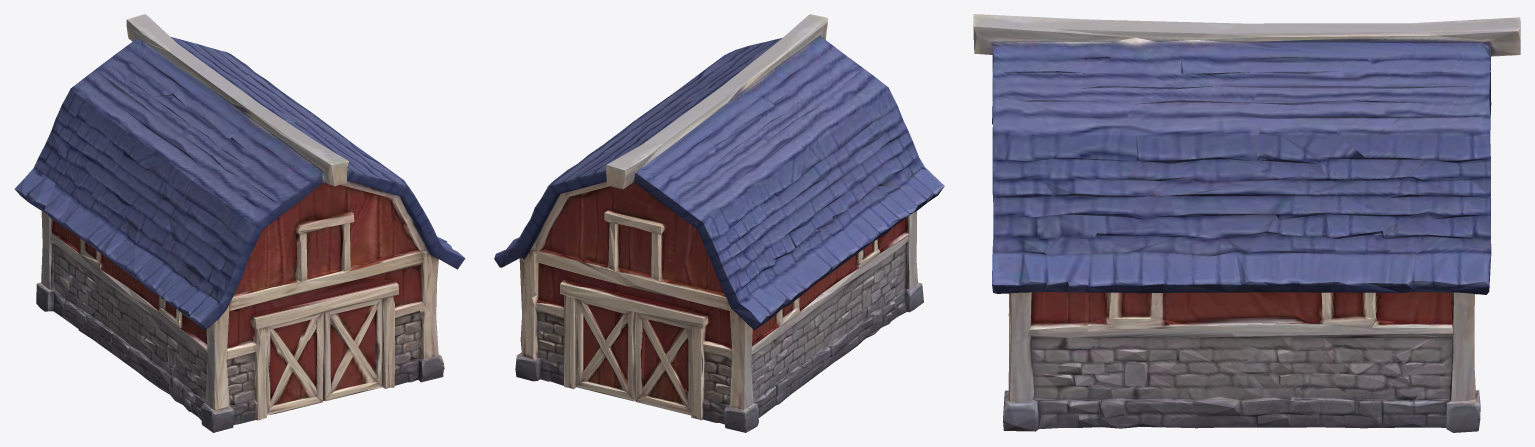
The model's file is oc_barn_stone.glb.
3 views of the same model, side by side, from view 1: azimuth 30°, elevation 25°; view 2: azimuth 150°, elevation 25°; view 3: azimuth 270°, elevation 25° (orthographic). The views are drawn at different scales.
Visible parts, largest first — view 1: W_barn_stone_long; view 2: W_barn_stone_long; view 3: W_barn_stone_long.
Part boxes in pixels (x1,y1,x2,y2): W_barn_stone_long: (15, 14, 465, 432); W_barn_stone_long: (494, 14, 944, 432); W_barn_stone_long: (973, 14, 1520, 432).
Bounding box in the file's own units: 12.25 × 10.86 × 15.97.
Materials: 1 (1 with a texture image).
